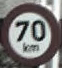Speed limit: (2, 6, 53, 61)
